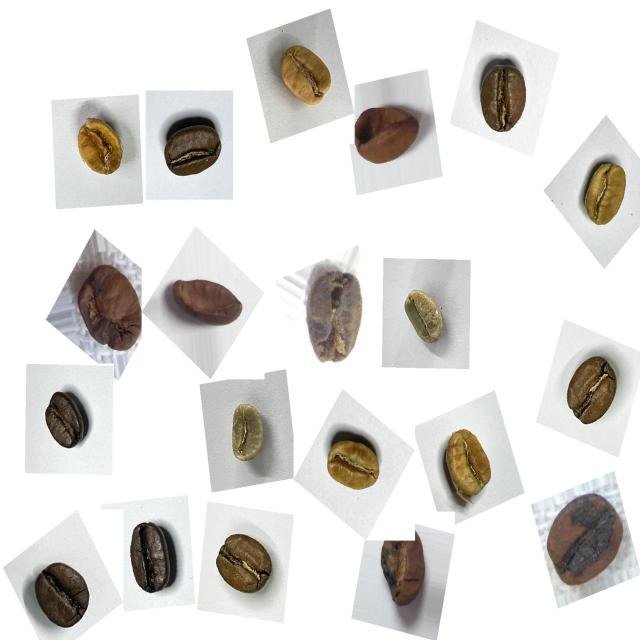bad: (536, 484, 631, 602), (68, 256, 156, 364), (297, 255, 376, 372), (346, 92, 426, 182), (168, 265, 252, 338), (371, 528, 437, 618)
dark: (27, 551, 101, 640), (114, 512, 184, 605), (33, 380, 98, 463)
green: (212, 391, 278, 476), (393, 278, 457, 357)
light: (433, 419, 505, 512), (266, 33, 340, 121), (319, 420, 392, 506), (569, 152, 636, 241), (64, 108, 132, 190)
medium: (555, 348, 629, 438), (466, 55, 539, 146), (207, 524, 283, 610), (156, 109, 232, 192)
